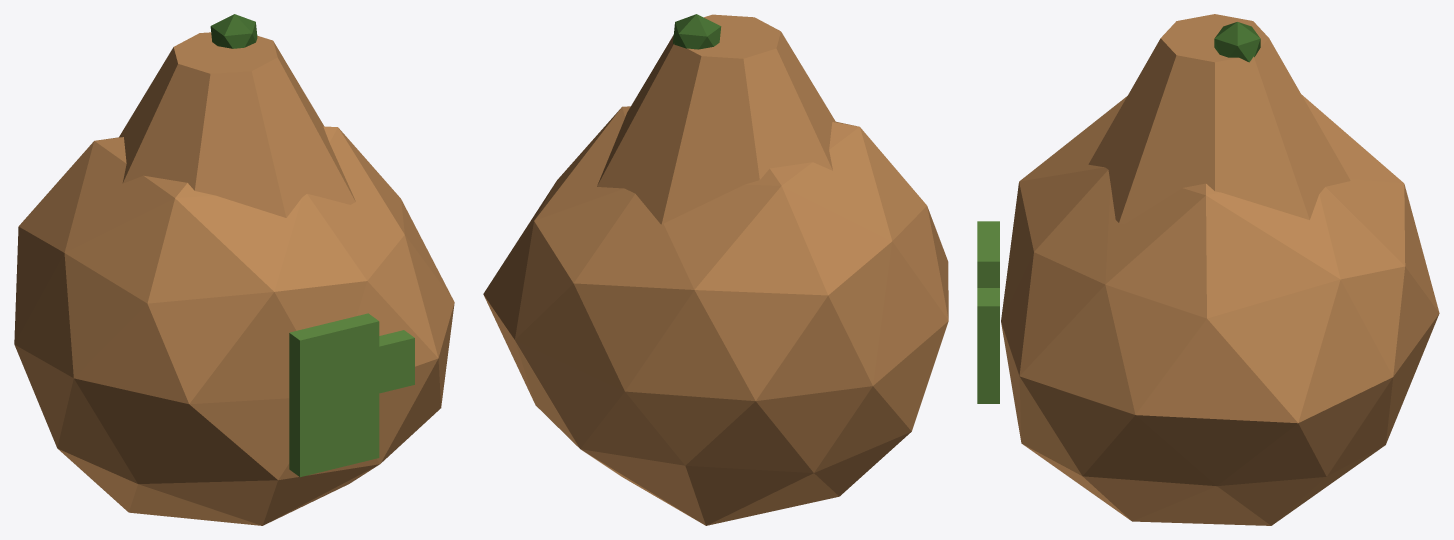
Rendered from CactusSeedPouch.fbx.
3 renders of one model, left to right at view 1: azimuth 30°, elevation 25°; view 2: azimuth 150°, elevation 25°; view 3: azimuth 270°, elevation 25°, orthographic. The views are drawn at different scales.
Parts seen in each view (by area): view 1: CactusSeedPouch; view 2: CactusSeedPouch; view 3: CactusSeedPouch.
Boxes of the visible parts, bbox=[...] form: CactusSeedPouch: bbox=[14, 14, 454, 525]; CactusSeedPouch: bbox=[483, 14, 948, 525]; CactusSeedPouch: bbox=[977, 14, 1439, 525].
Size of the model in its own units: 1 by 1.2 by 1.
